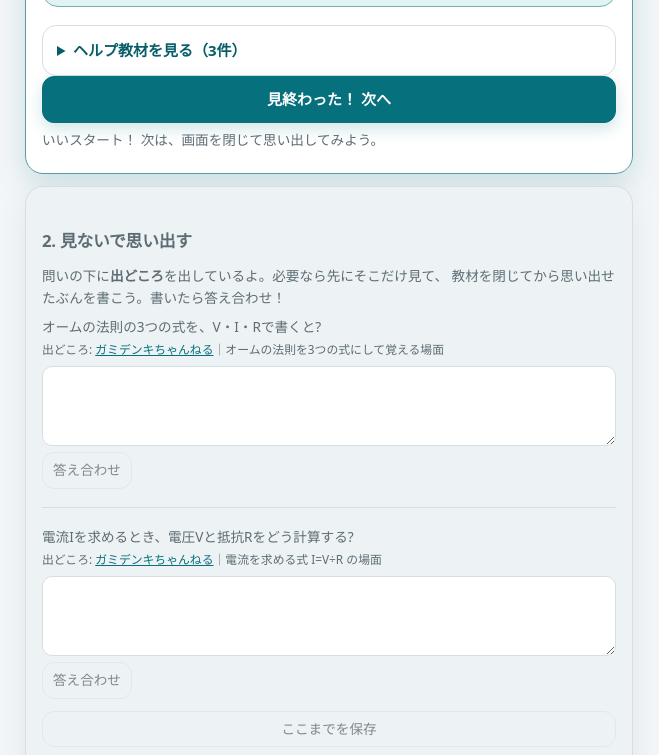
Test: 見ないで思い出す(答え合わせ) › 書くまで模範解答は出ない。書いたら出る
(page scrolled)
Check: the text "電圧V=電流I×抵抗R、電流I=電圧V÷抵抗R、抵抗R=電圧V÷電流I。" is not shown
Check: the button "答え合わせ" below "オームの法則を3つの式にして覚える場面" is disabled, box [42,452,132,489]
Type "V=I×R" into the text box labelled "オームの法則の3つの式を、V・I・Rで書くと?" at point(329, 406), box [42,366,616,446]
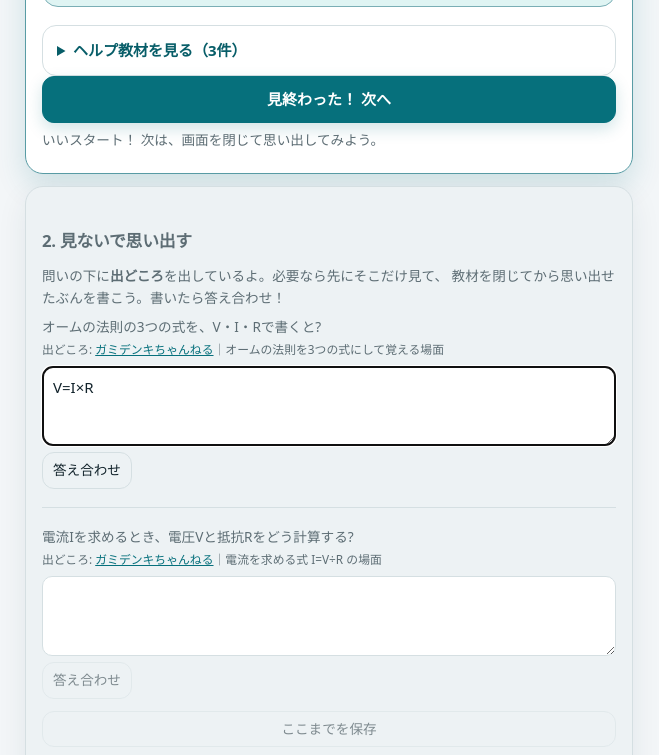
Click the button "答え合わせ" below "オームの法則を3つの式にして覚える場面" at point(87, 470), box [42,452,132,489]
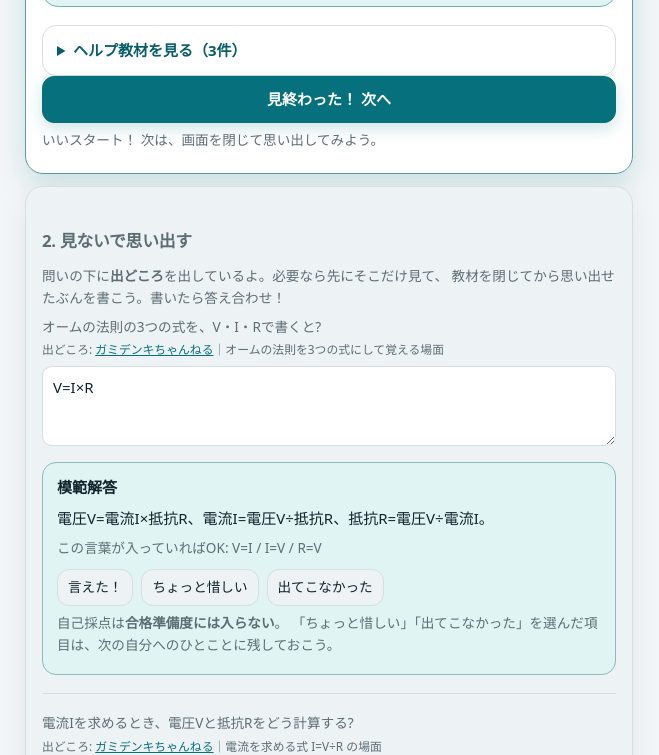
Check: the text "出どころ: ガミデンキちゃんねる ｜オームの法則を3つの式にして覚える場面" is shown, box [42,341,444,357]
Check: the text "電圧V=電流I×抵抗R、電流I=電圧V÷抵抗R、抵抗R=電圧V÷電流I。" is shown, box [57,508,494,528]
